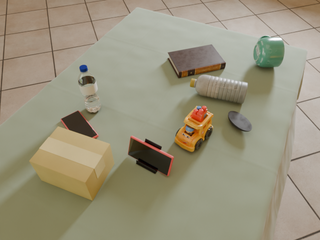book: (168, 44, 226, 78)
bottle: (190, 75, 248, 104), (78, 65, 101, 113)
box: (29, 127, 114, 200)
cup: (253, 36, 284, 67)
mouse: (228, 111, 252, 131)
phone: (128, 136, 174, 176), (61, 111, 98, 138)
toy_car: (175, 106, 213, 152)
